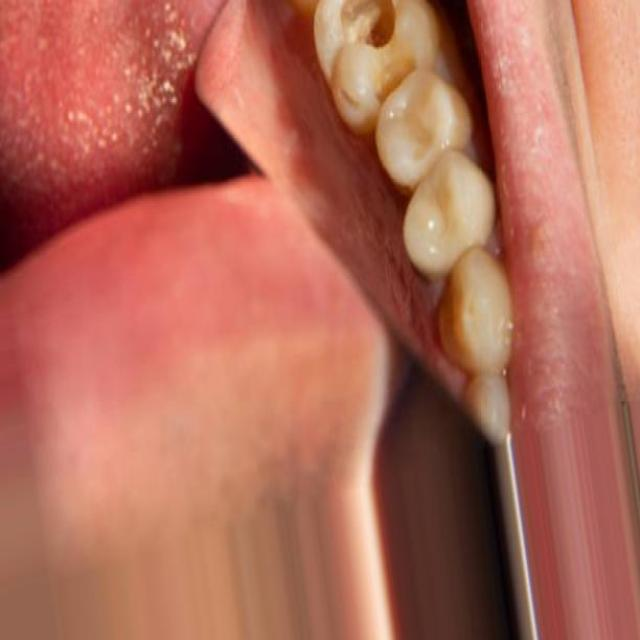caries: (320, 0, 430, 106)
